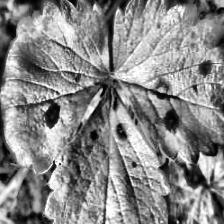Leaf Spot: (0, 0, 112, 176), (110, 0, 224, 165), (43, 83, 170, 224), (137, 149, 222, 224)
